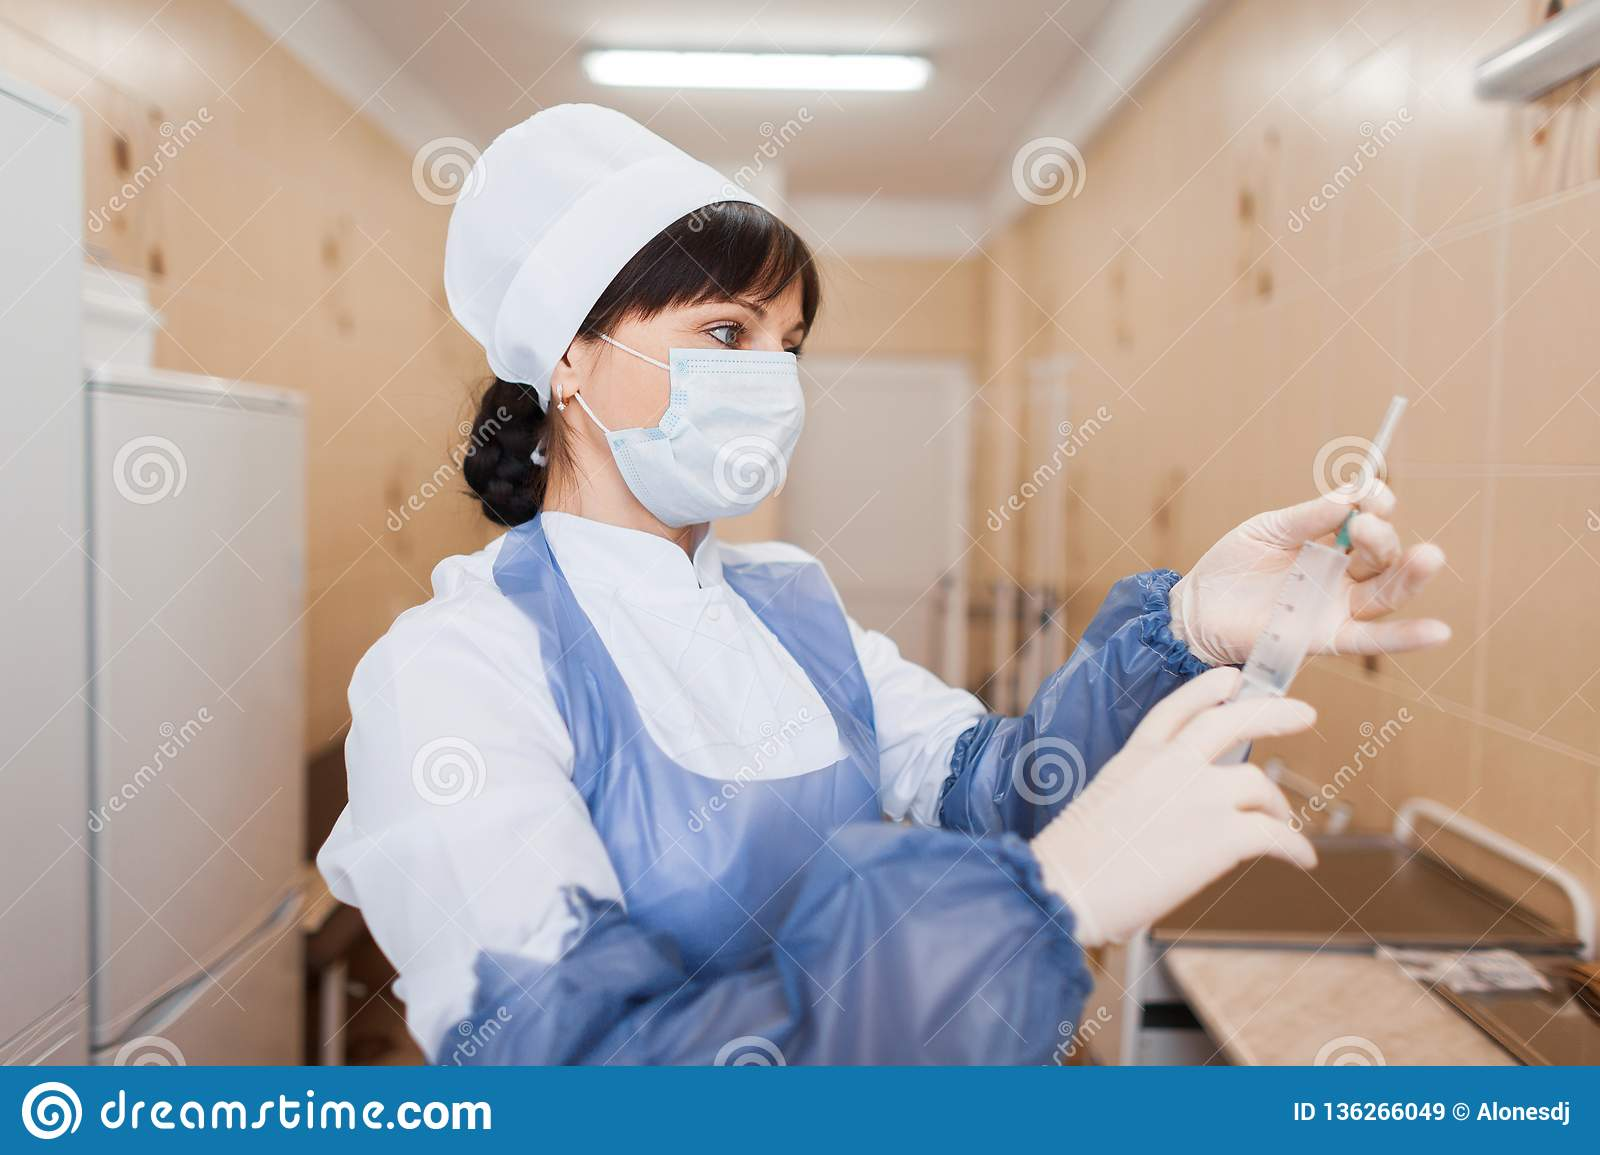mask: (602, 346, 806, 530)
